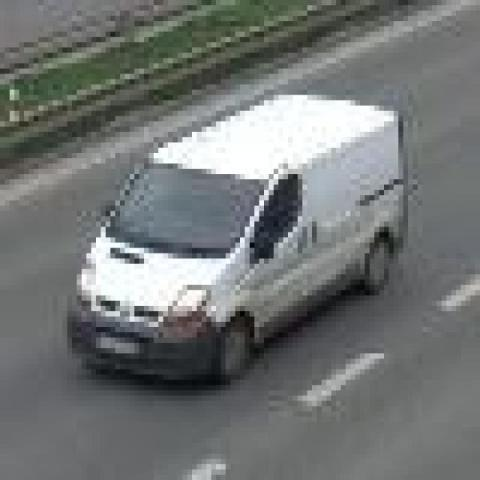van: (68, 92, 404, 388)
